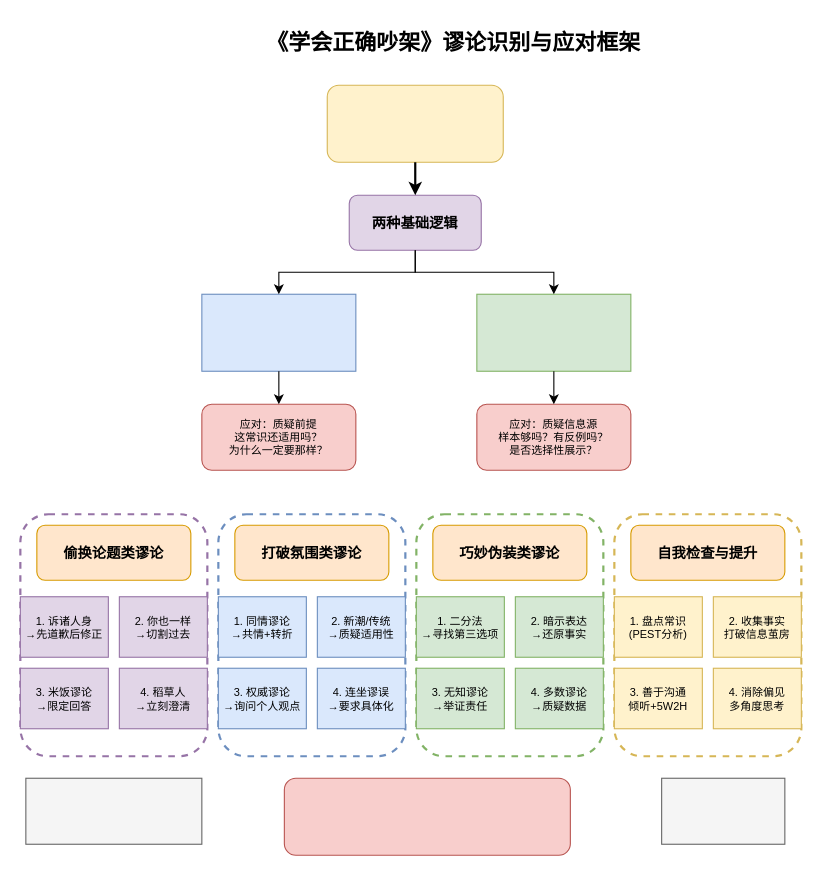
This 821x875 diagram has some shape labels left out. Each missing label, with the centre of its shape:
反驳之剃刀（汉隆剃刀） 不要将愚蠢/失误归咎于恶意 拒绝阴谋论，保持理性: the point at 426,816
对于根深蒂固的恶意 （如网络喷子） 无视和远离是最高效策略: the point at 113,810
归纳法 多个样本→总结规律 弱点：样本可能片面: the point at 553,332
形式逻辑陷阱： 后项肯定 / 前项否定 中项不周延: the point at 723,810
核心目标： 让沟通回归理性 不是为了吵赢: the point at 414,123
演绎法 前提+信息=结论 弱点：前提可能错: the point at 278,332
